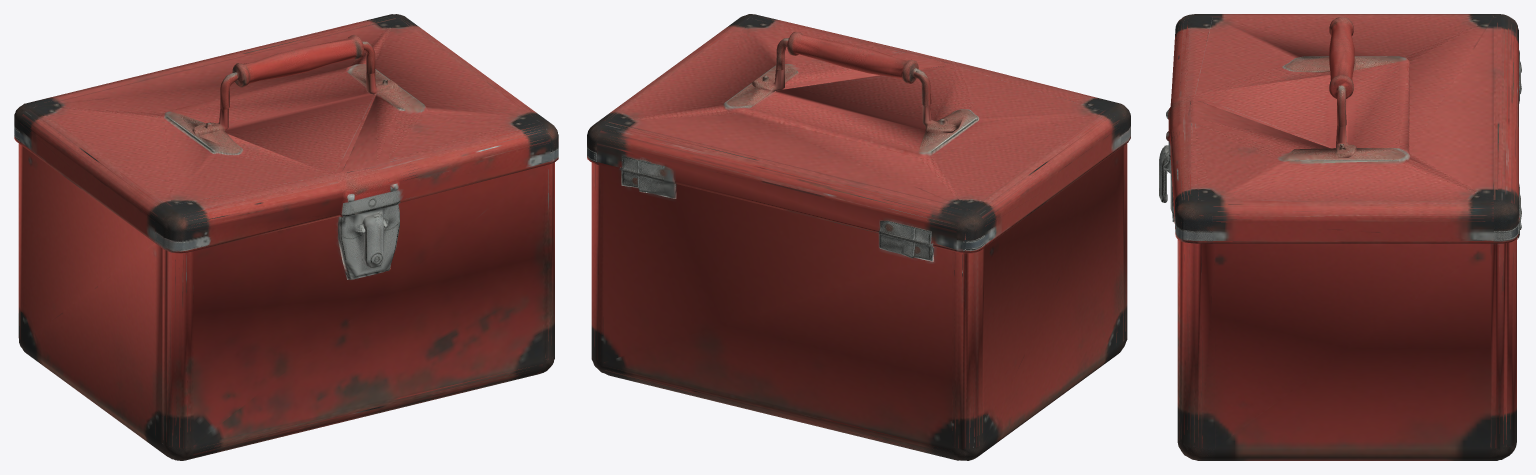
Rendered from Toolbox.fbx.
3 renders of one model, left to right at view 1: azimuth 30°, elevation 25°; view 2: azimuth 150°, elevation 25°; view 3: azimuth 270°, elevation 25°, orthographic. The views are drawn at different scales.
Visible parts, largest first — view 1: mesh_node; view 2: mesh_node; view 3: mesh_node.
Boxes of the visible parts, x1,y1,x2,y2 form: mesh_node: (14,14,558,460); mesh_node: (587,14,1130,460); mesh_node: (1159,14,1521,460).
Bounding box in the file's own units: 190 × 145 × 146.
Materials: 1 (1 with a texture image).
